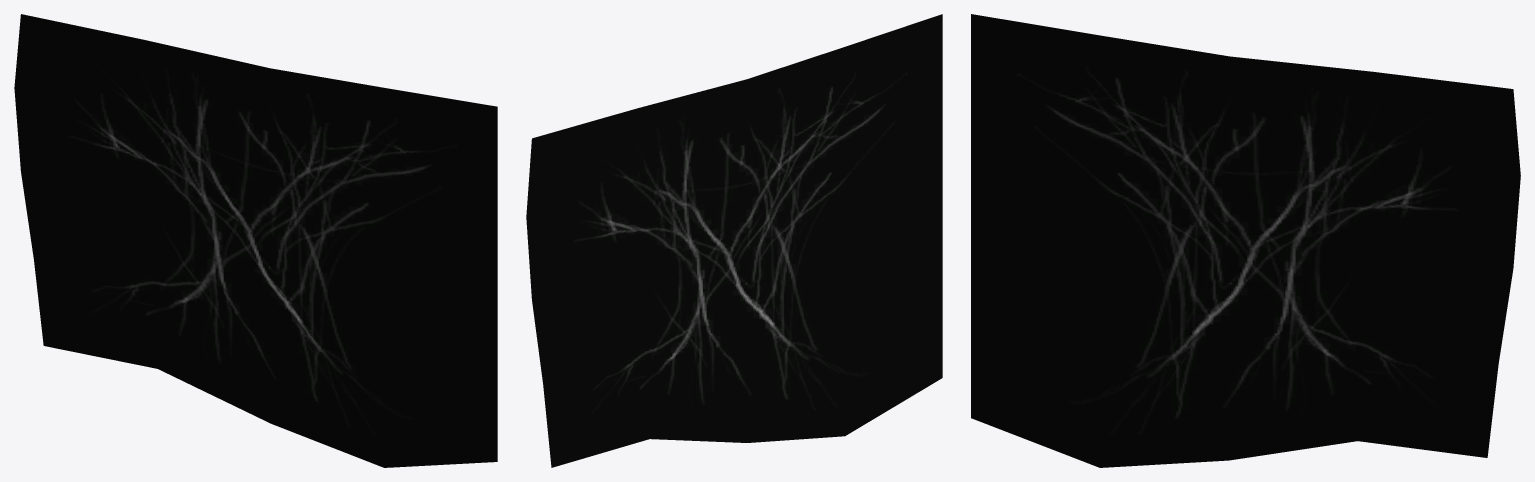
File: MIRKWOOD_SB_WEBS02.fbx
3 renders of one model, left to right at view 1: azimuth 90°, elevation 25°; view 2: azimuth 150°, elevation 25°; view 3: azimuth 270°, elevation 25°, orthographic. The views are drawn at different scales.
Parts seen in each view (by area): view 1: MIRKWOOD_SB_WEBS02; view 2: MIRKWOOD_SB_WEBS02; view 3: MIRKWOOD_SB_WEBS02.
Boxes of the visible parts, x1=… form: MIRKWOOD_SB_WEBS02: x1=14, y1=14, x2=497, y2=467; MIRKWOOD_SB_WEBS02: x1=526, y1=14, x2=942, y2=467; MIRKWOOD_SB_WEBS02: x1=971, y1=14, x2=1520, y2=467.
Size of the model in its own units: 20683 by 47182 by 52507.
1 material, 1 textured.
